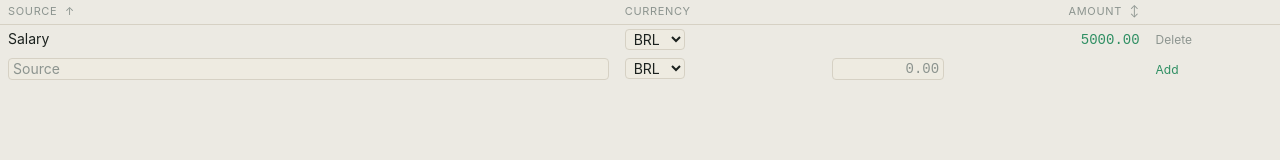
it: IncomeList — inline editing › cancels edit on Escape
Click the cell with test id "source-i1" at [29, 39], box top-left (0, 24), bottom-right (617, 54)
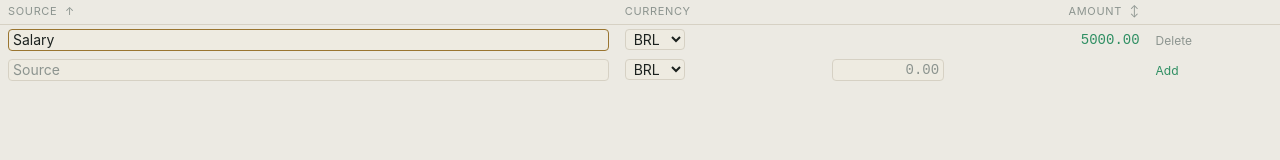
Press Escape in the field showing "Salary", box top-left (8, 29), bottom-right (609, 51)
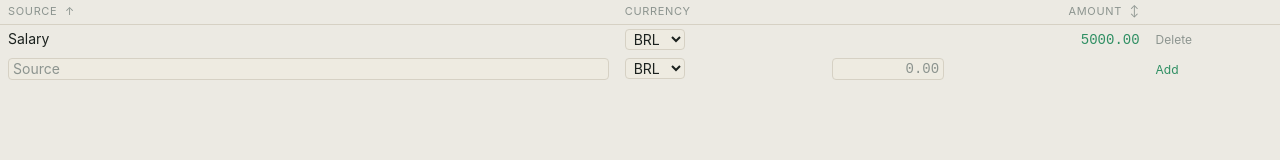
expect the cell with test id "source-i1" reads "Salary": met, box top-left (8, 30), bottom-right (50, 47)
